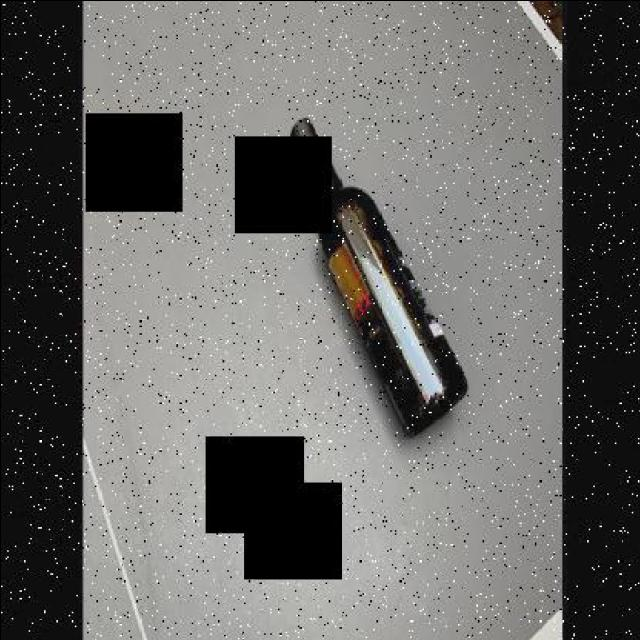glass: (288, 102, 471, 436)
